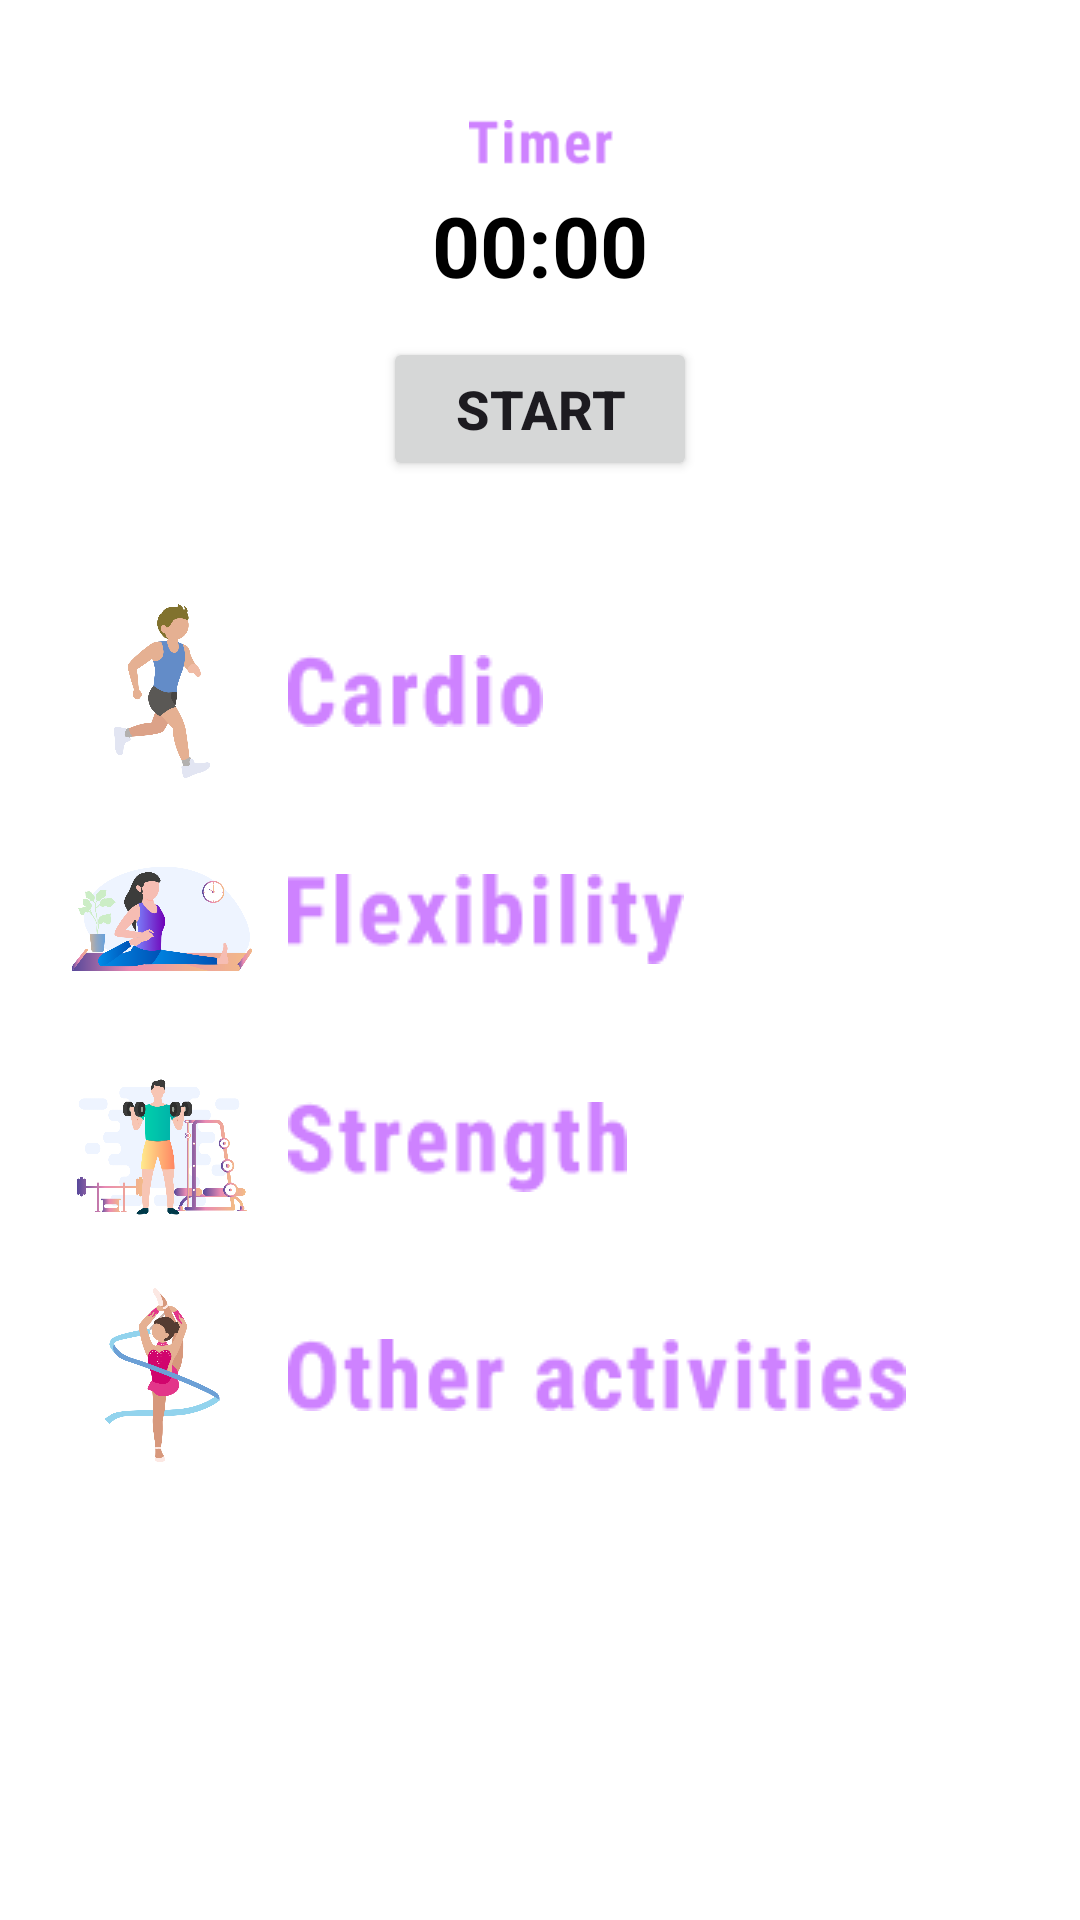

Where to tap for icons on this 1080x1920 app screen, as [x,y]:
Cardio Icon: [162,691]
Flexibility Icon: [162,919]
Other Activities Icon: [162,1375]
Strength Icon: [162,1147]
